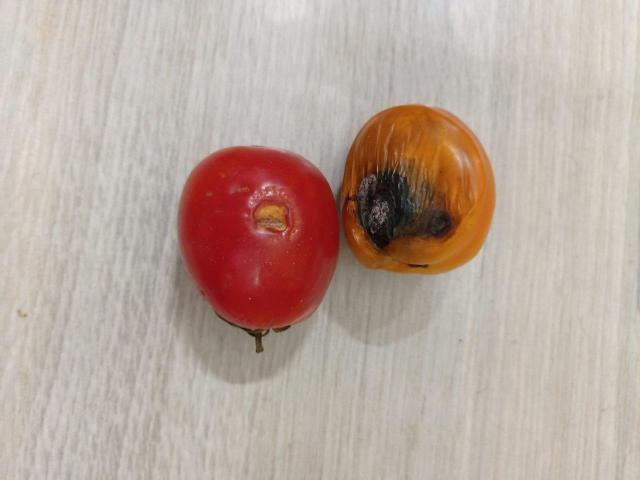defect: (175, 140, 342, 351), (338, 100, 501, 278)
